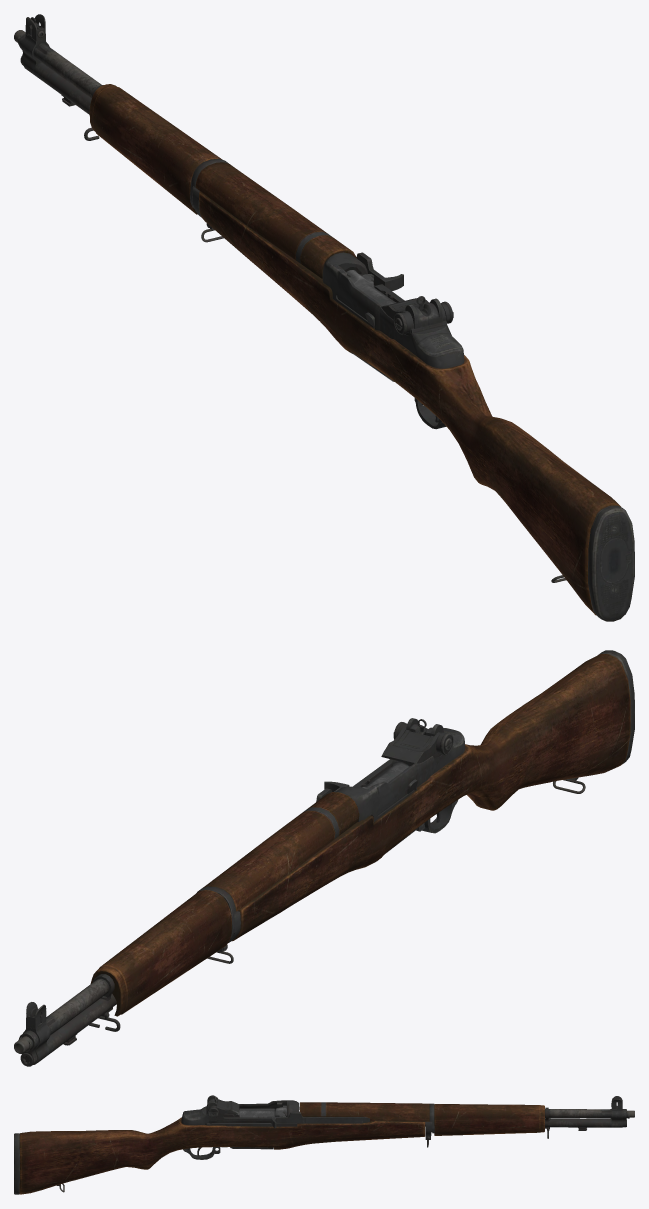
Rendered from m1garand.glb.
3 renders of one model, top to bottom at view 1: azimuth 30°, elevation 25°; view 2: azimuth 150°, elevation 25°; view 3: azimuth 270°, elevation 25°, orthographic. The views are drawn at different scales.
Visible parts, largest first — view 1: body, bolt; view 2: body, bolt; view 3: body, bolt.
Boxes of the visible parts, x1,y1,x2,y2 form: body: [14, 14, 634, 621]; bolt: [346, 252, 403, 306]; body: [14, 650, 634, 1066]; bolt: [316, 761, 408, 801]; body: [14, 1095, 634, 1194]; bolt: [236, 1105, 369, 1127].
Bounding box in the file's own units: 0.0694 × 0.1888 × 1.1.
Materials: 2 (2 with a texture image).
